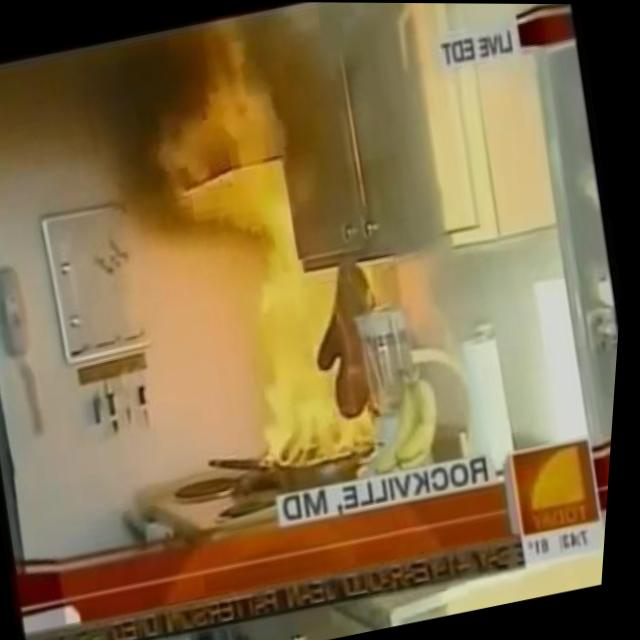fire: (128, 5, 436, 485)
